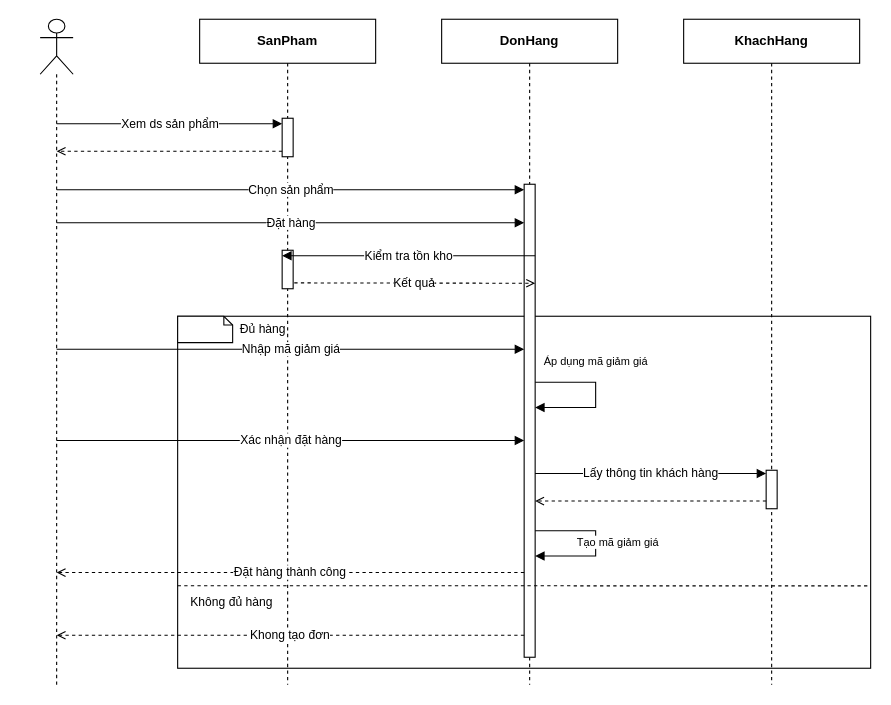
This 891x705 diagram has some shape labels left out. The shapes that lost their labels are listed below. From the top down, each one's centre as x and y in pixels, then its label:
pixel 56 46: Khách hàng
pixel 205 329: alt
